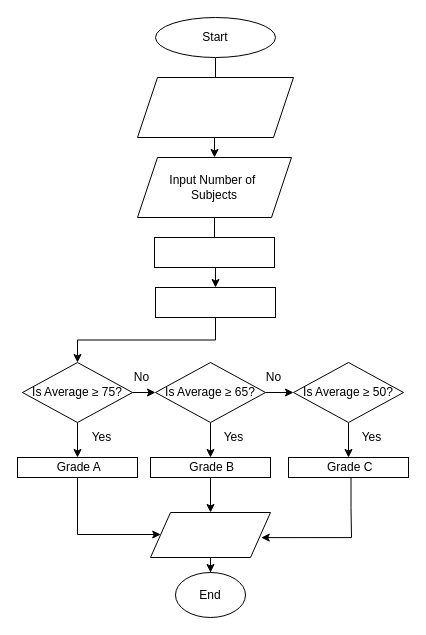
The diagram is 426 pixels wide and 635 high, and some of its shapes have lost their labels. Here are the shapes that lost their labels. From the top down, the box of each, then its label:
(136, 76, 294, 138): Input Student name, Student Roll no
(154, 236, 274, 268): Set total = 0
(154, 286, 276, 318): Calculate Average
(150, 512, 270, 558): Display Result
